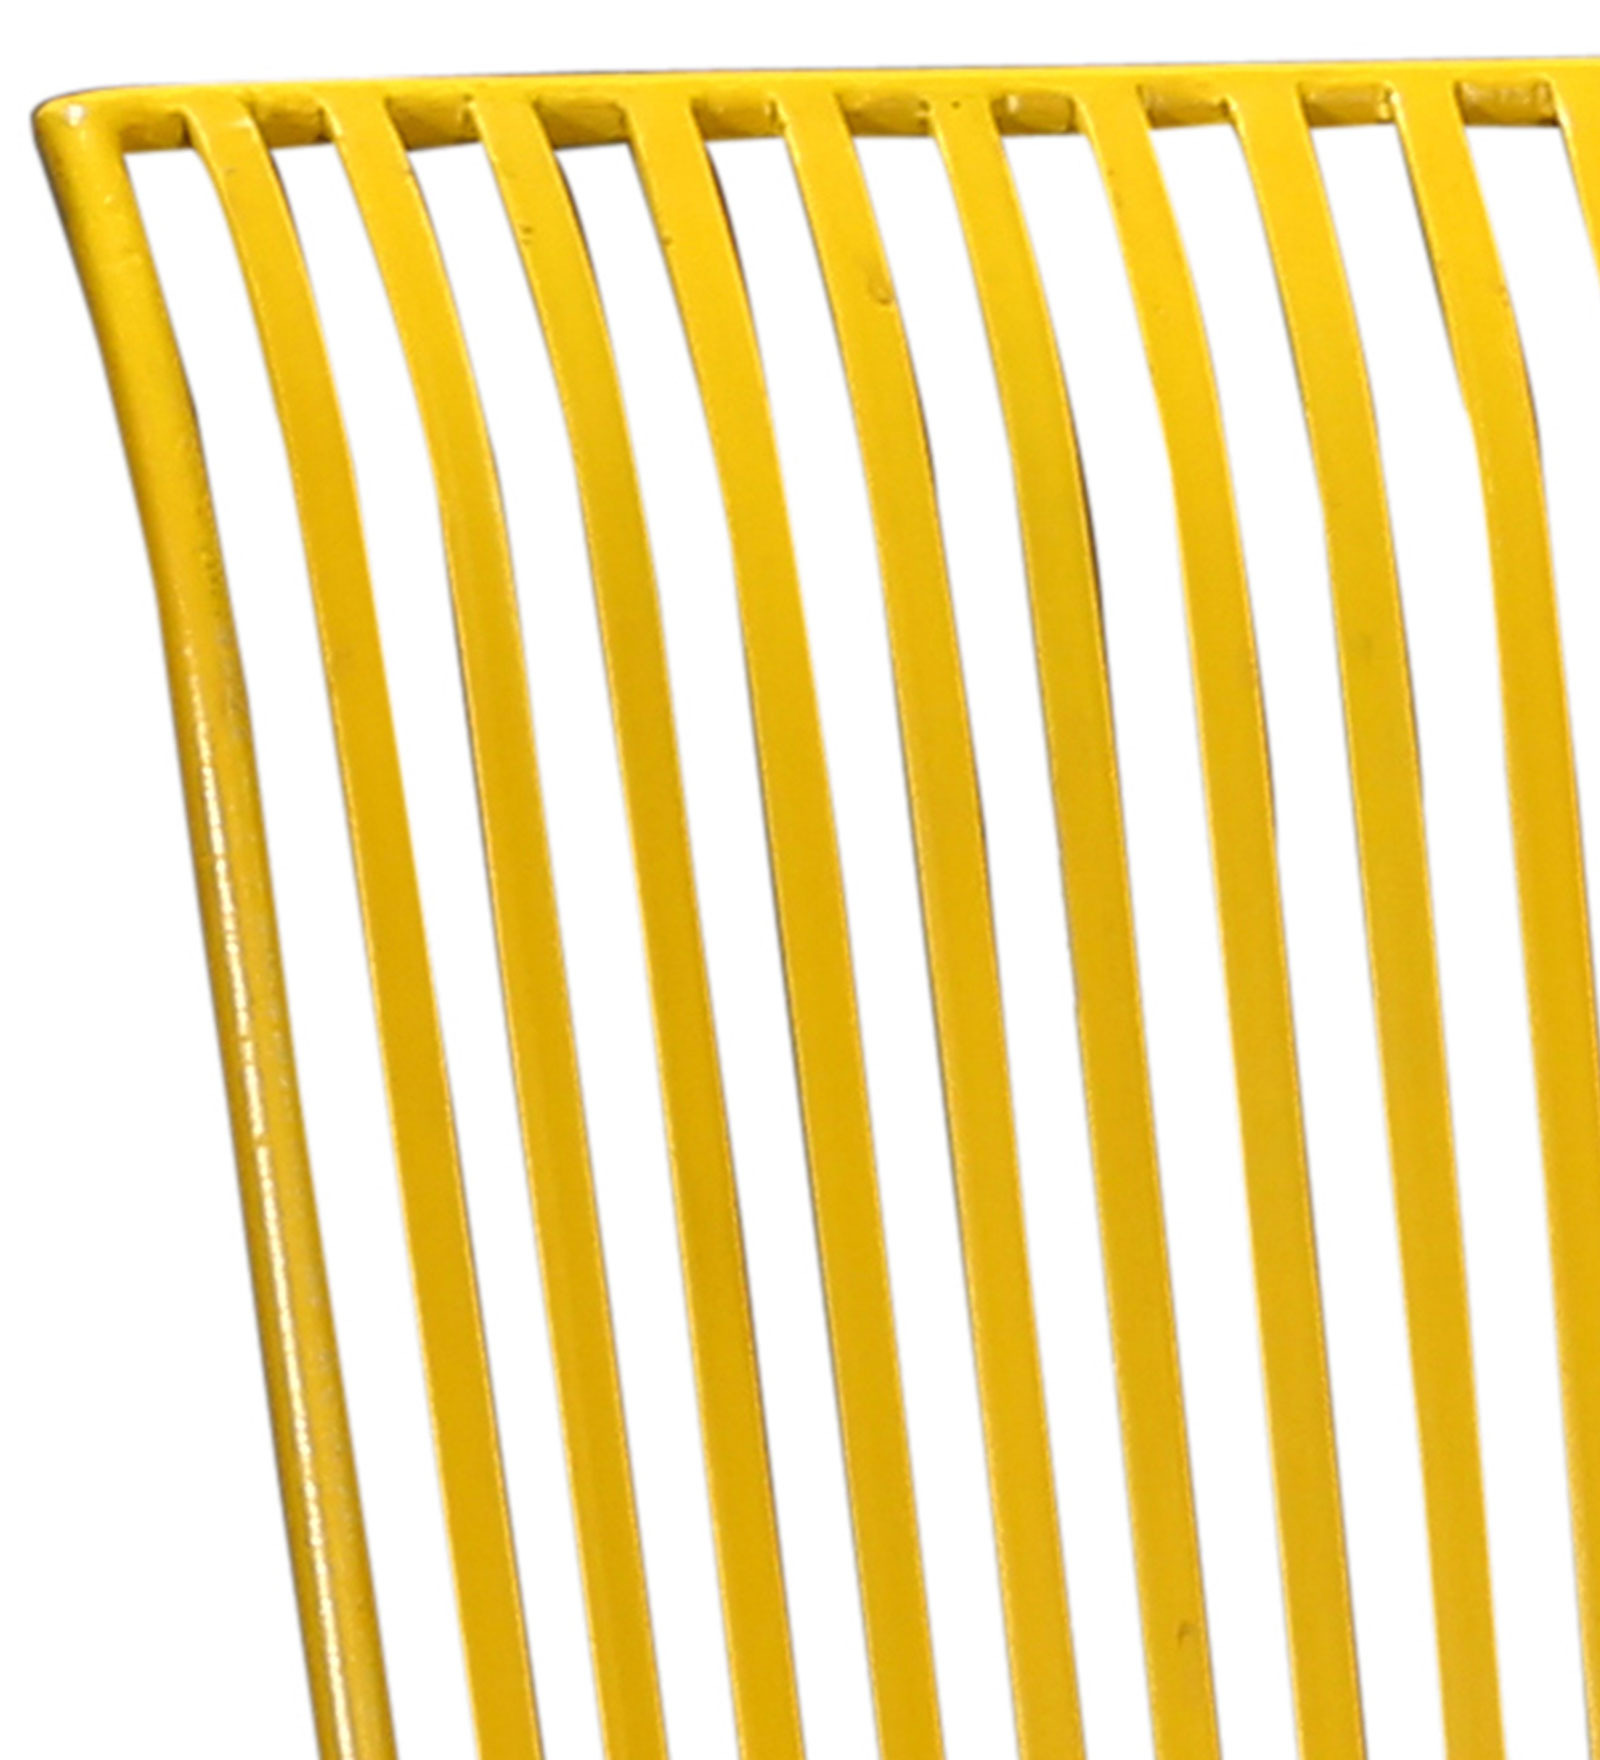Lisheen Outdoor Iron Chair in Yellow Color by Bohemiana: (23, 61, 1588, 1760)
